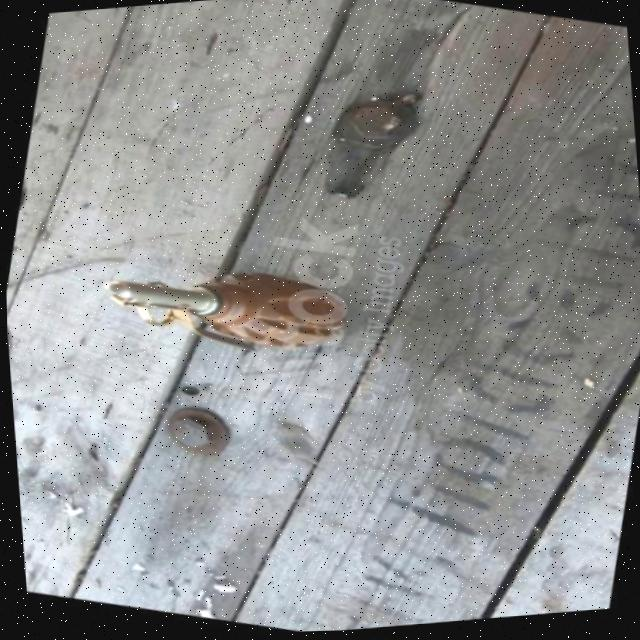grenade: (98, 235, 364, 387)
